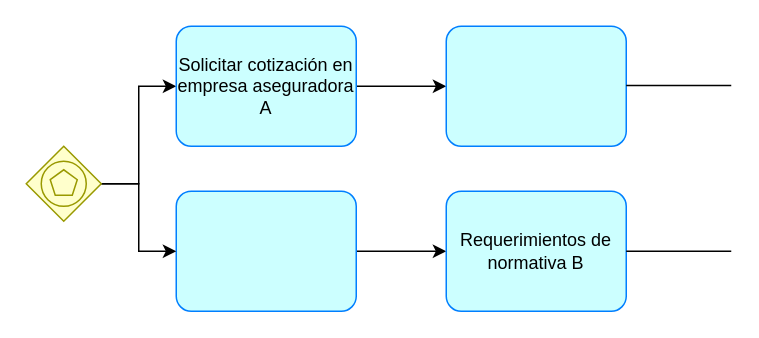
The diagram is 759 pixels wide and 338 high, and some of its shapes have lost their labels. Each missing label, with the centre of its shape:
"Requerimientos de normativa A" goes at point 535,85.
"Solicitar cotización en empresa aseguradora B" goes at point 265,250.
